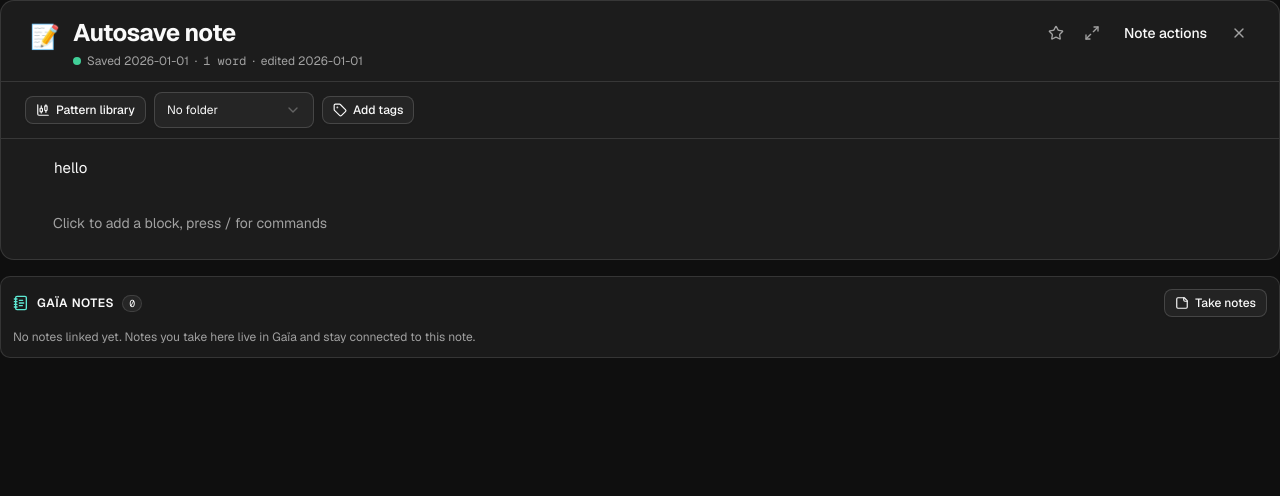
Test: Gaia autosave race › stops retrying a 409, preserves local edits, and rebases when keeping them
This screenshot has width=1280, height=496.
Replace the text in the field with test id "gaia-title-input" with "My local title" at (552, 33), box [73,17,1032,49]
Wait 60900 ms
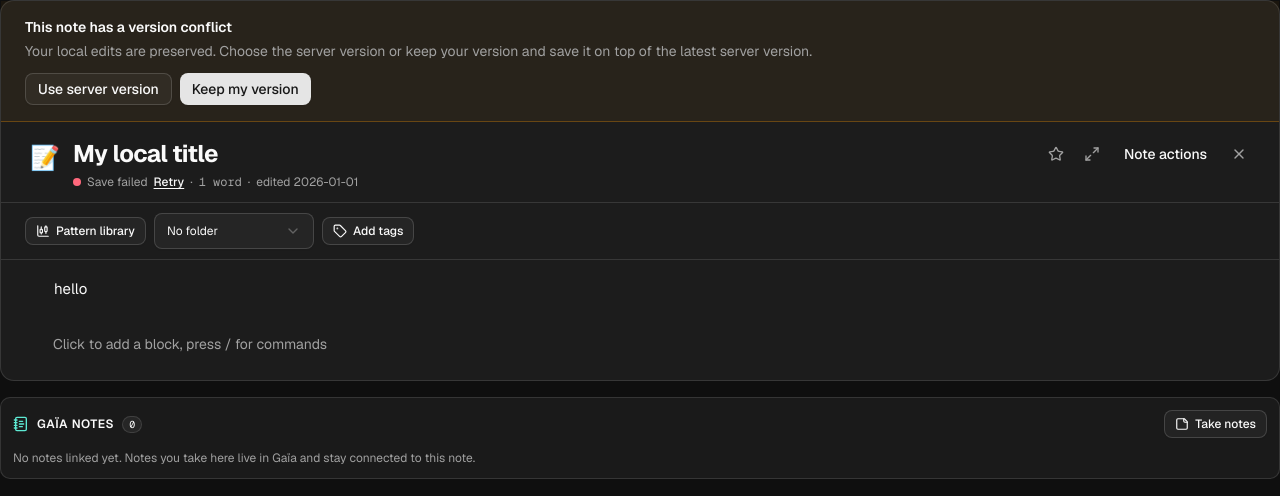
Now the message with test id "gaia-conflict-resolution" is shown, box [1,1,1279,122]
Click the button "Keep my version" at (245, 89), box [180,73,311,105]
Wait 900 ms
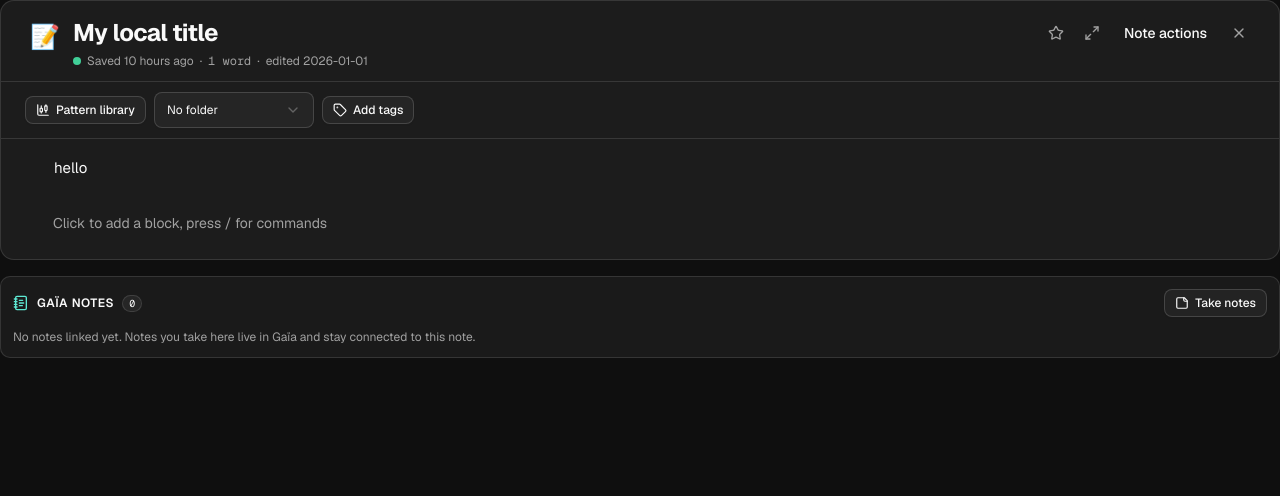
Now the message with test id "gaia-conflict-resolution" is gone
